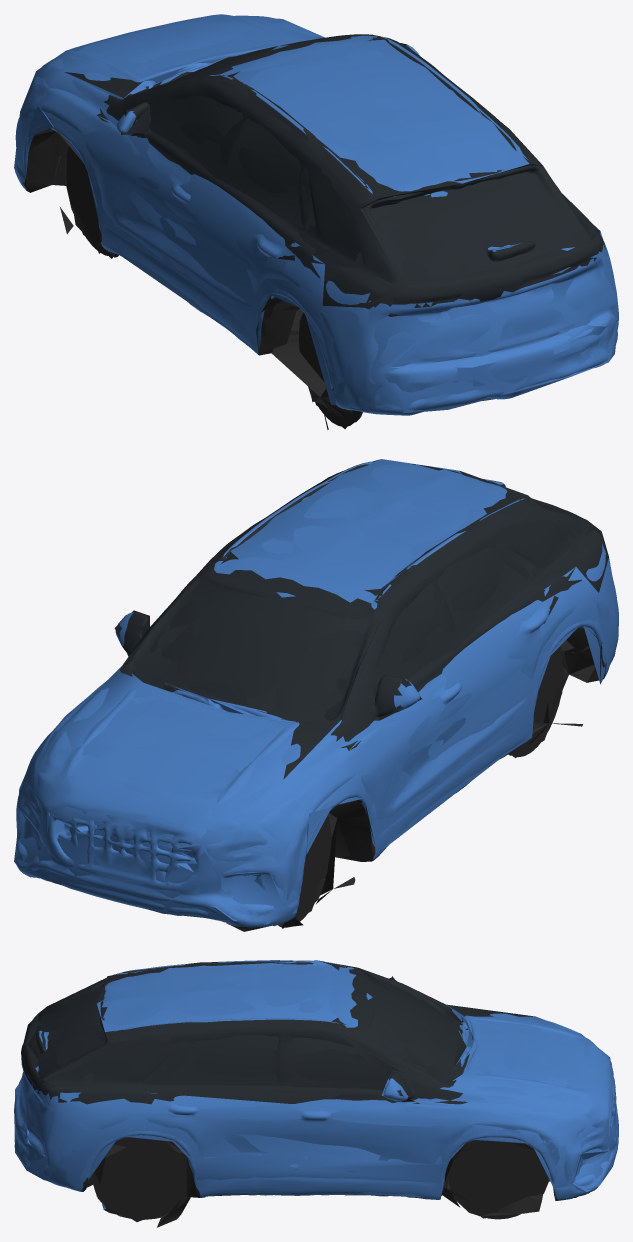
File: audi-sq8.glb
3 renders of one model, top to bottom at view 1: azimuth 30°, elevation 25°; view 2: azimuth 150°, elevation 25°; view 3: azimuth 270°, elevation 25°, orthographic. The views are drawn at different scales.
Parts seen in each view (by area): view 1: body, far; view 2: body, far; view 3: body, far.
Part boxes in pixels (box(x1,y1,x2,y2)): body: box(14, 14, 618, 429); far: box(14, 16, 618, 428); body: box(15, 461, 618, 931); far: box(14, 459, 618, 928); body: box(14, 960, 618, 1227); far: box(14, 960, 617, 1227).
Bounding box in the file's own units: 2.2 × 1.8 × 5.03.
